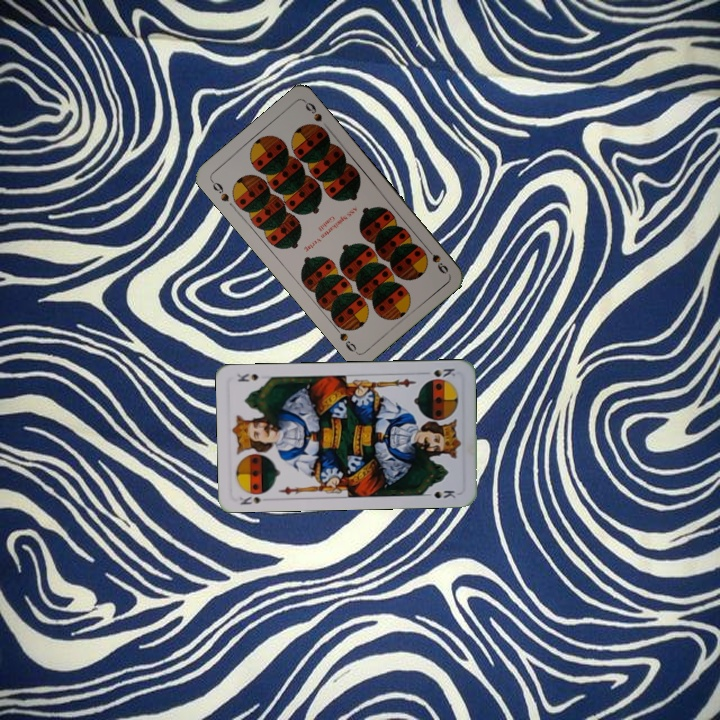S9: (421, 242, 451, 277), (207, 176, 232, 204)
SK: (425, 364, 458, 383), (236, 492, 264, 508)
